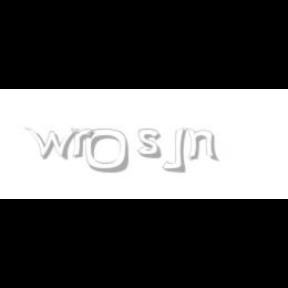J: (162, 128, 186, 172)
O: (84, 128, 130, 174)
n: (186, 128, 220, 162)
r: (70, 128, 98, 158)
s: (138, 128, 166, 160)
w: (24, 128, 84, 160)
